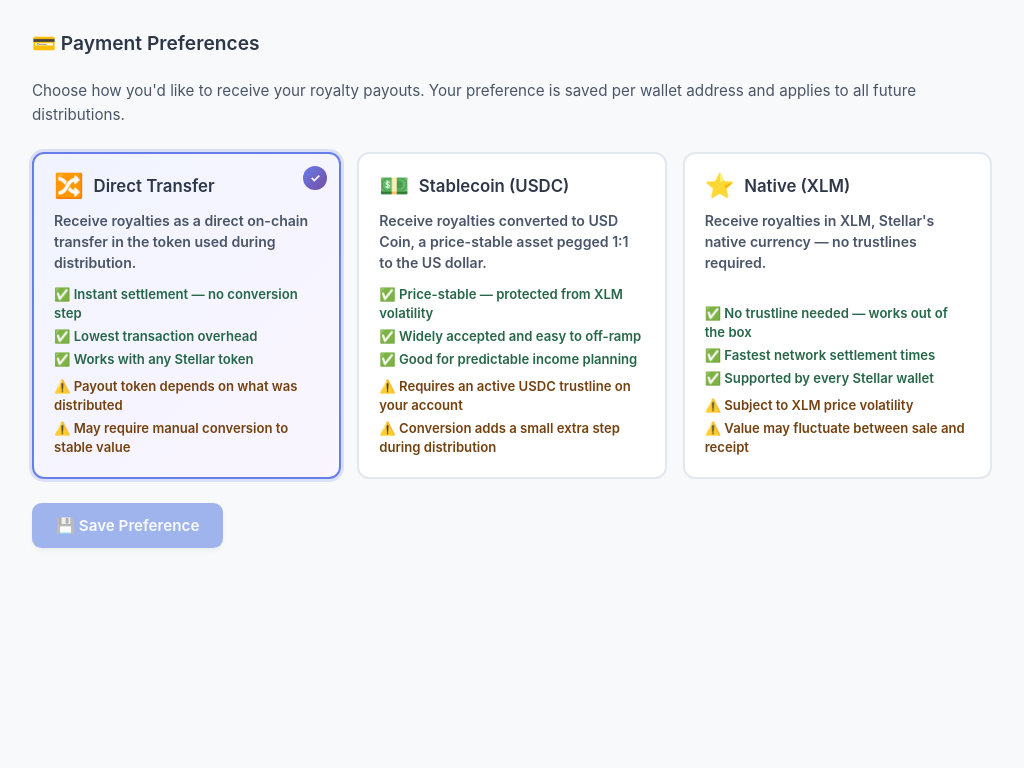
Test case: PaymentPreferences optimistic save (#771) › rolls back the optimistic value when the offline queue is full
Click the radio button labelled "Stablecoin" at coordinates (494, 186), box [357,152,667,479]
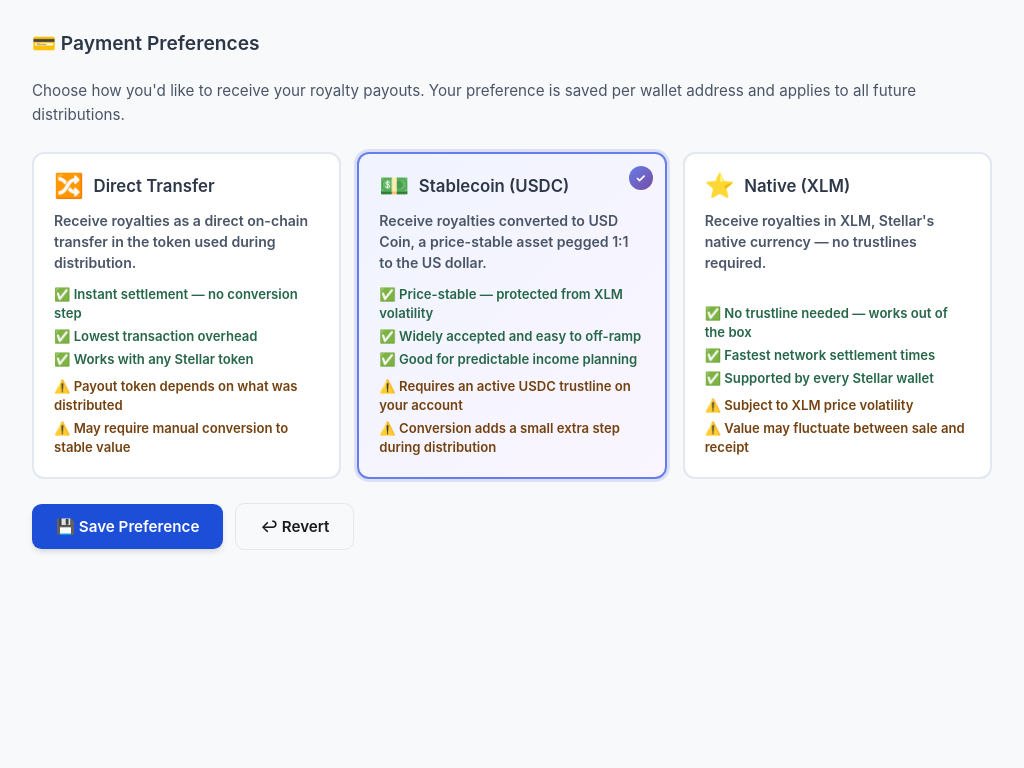
Click the button "💾 Save Preference" at coordinates (128, 526), box [32,504,223,549]
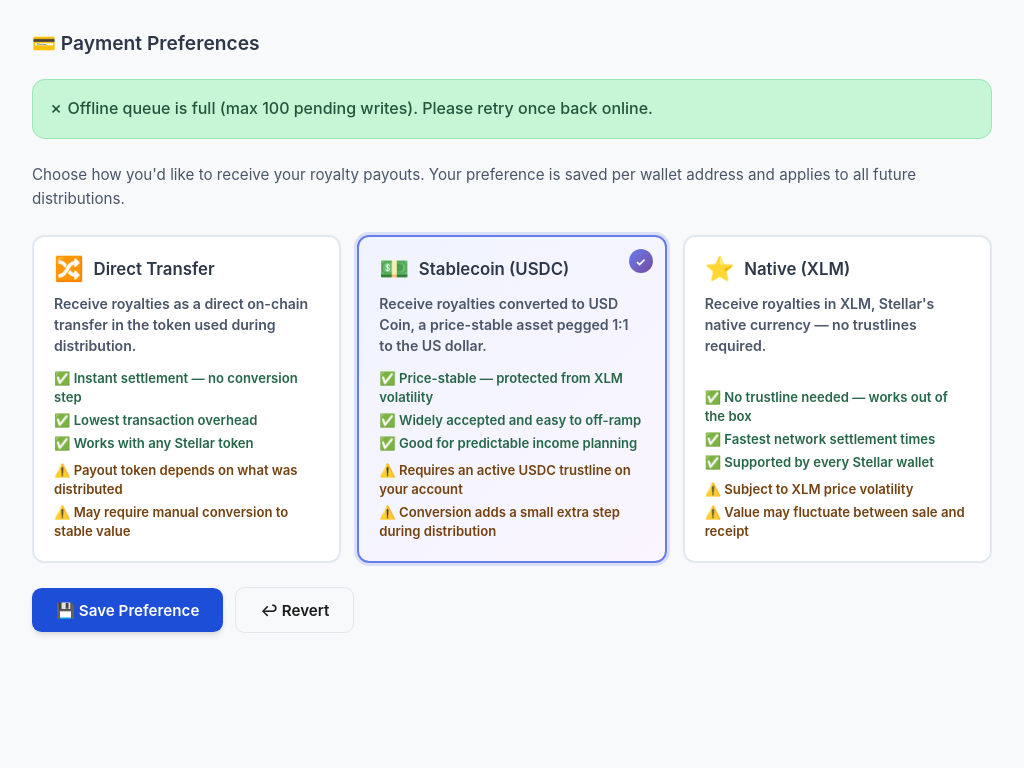
Now the button "↩ Revert" is shown, box [235,587,354,633]
Now the button "💾 Save Preference" is enabled, box [32,588,223,632]
Now the message shows "queue is full", box [49,98,653,118]
